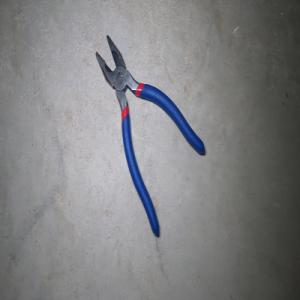Pliers: (94, 35, 205, 238)
